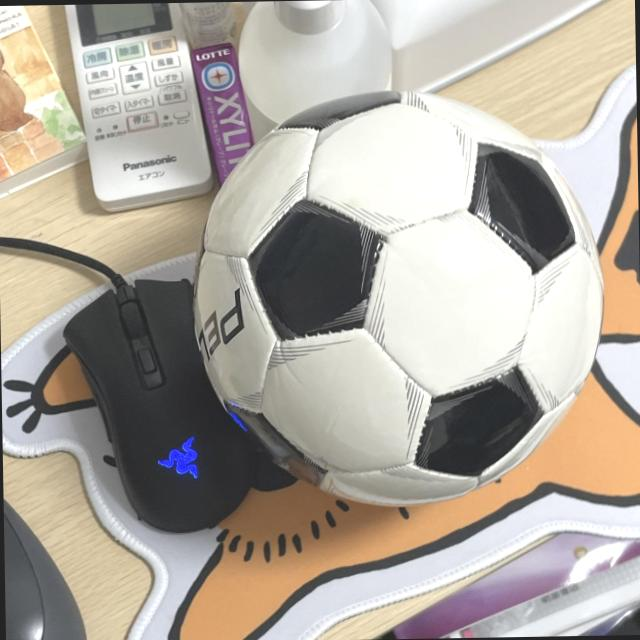Soccer Ball: (187, 83, 608, 510)
